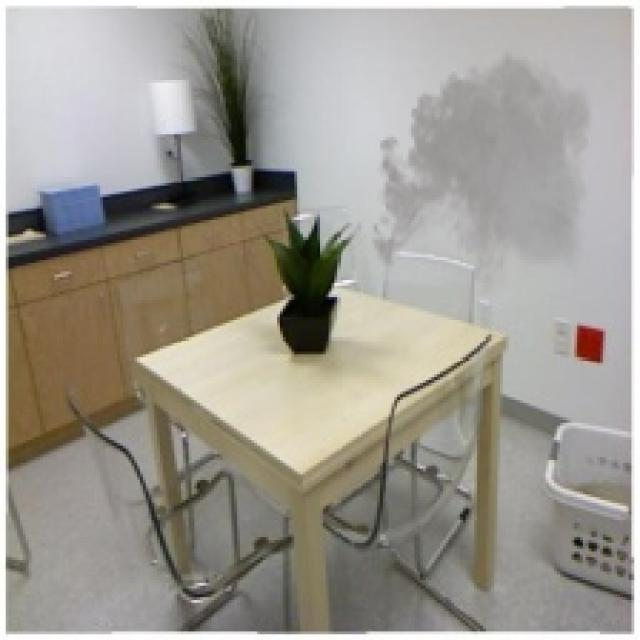smoke: (363, 34, 603, 314)
